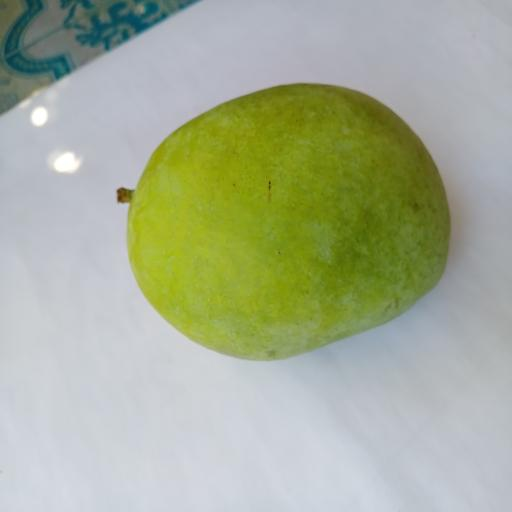mango-unripe: (99, 73, 472, 378)
